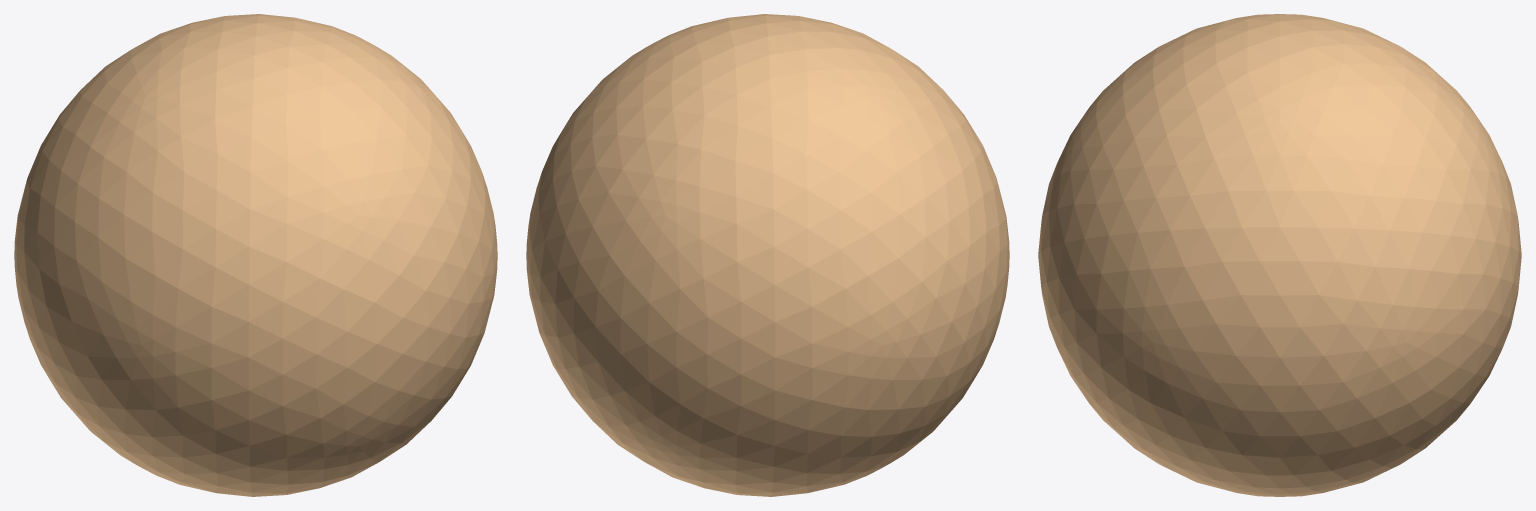
File: testmodel.glb
The picture shows the model from 3 angles, left to right: view 1: azimuth 30°, elevation 25°; view 2: azimuth 150°, elevation 25°; view 3: azimuth 270°, elevation 25°; orthographic projection.
Visible parts, largest first — view 1: ico; view 2: ico; view 3: ico.
Boxes of the visible parts, x1,y1,x2,y2 form: ico: (14,14,497,496); ico: (526,14,1009,496); ico: (1038,14,1521,496).
Bounding box in the file's own units: 2 × 2 × 2.
